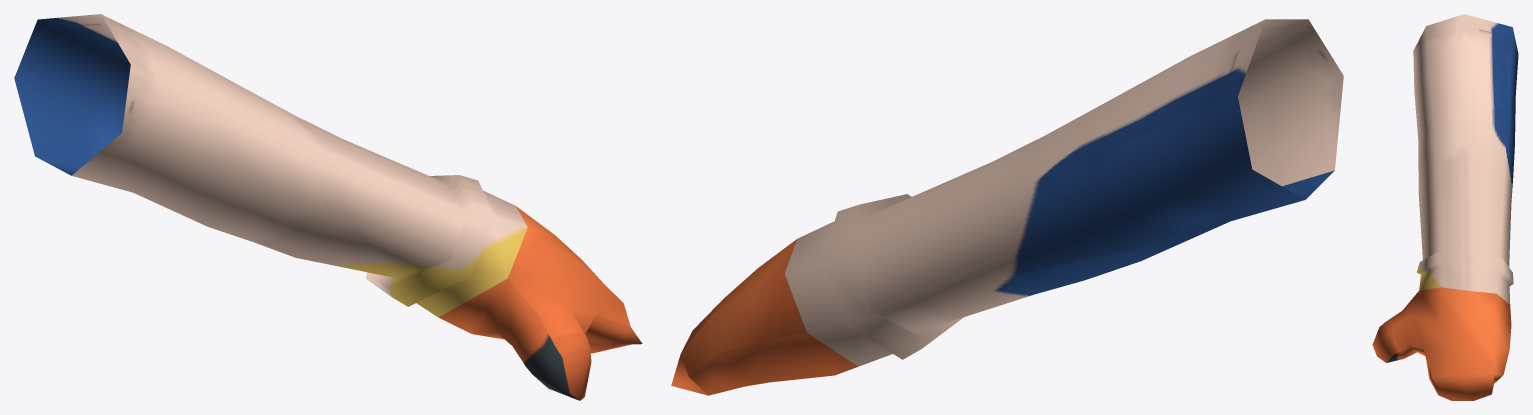
The model's file is SM_Santa_L_Arm.fbx.
3 views of the same model, side by side, from view 1: azimuth 30°, elevation 25°; view 2: azimuth 150°, elevation 25°; view 3: azimuth 270°, elevation 25° (orthographic). The views are drawn at different scales.
Parts seen in each view (by area): view 1: polySurface159; view 2: polySurface159; view 3: polySurface159.
Boxes of the visible parts, left/top/right/bottom form: polySurface159: left=14, top=14, right=642, bottom=400; polySurface159: left=671, top=19, right=1343, bottom=395; polySurface159: left=1372, top=14, right=1518, bottom=400.
Size of the model in its own units: 33.52 by 25.1 by 13.44.
